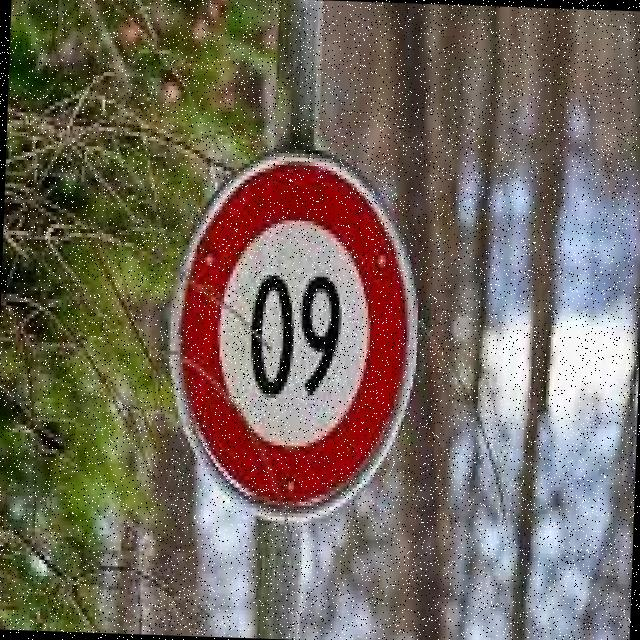speed_limit_60: (172, 155, 414, 516)
